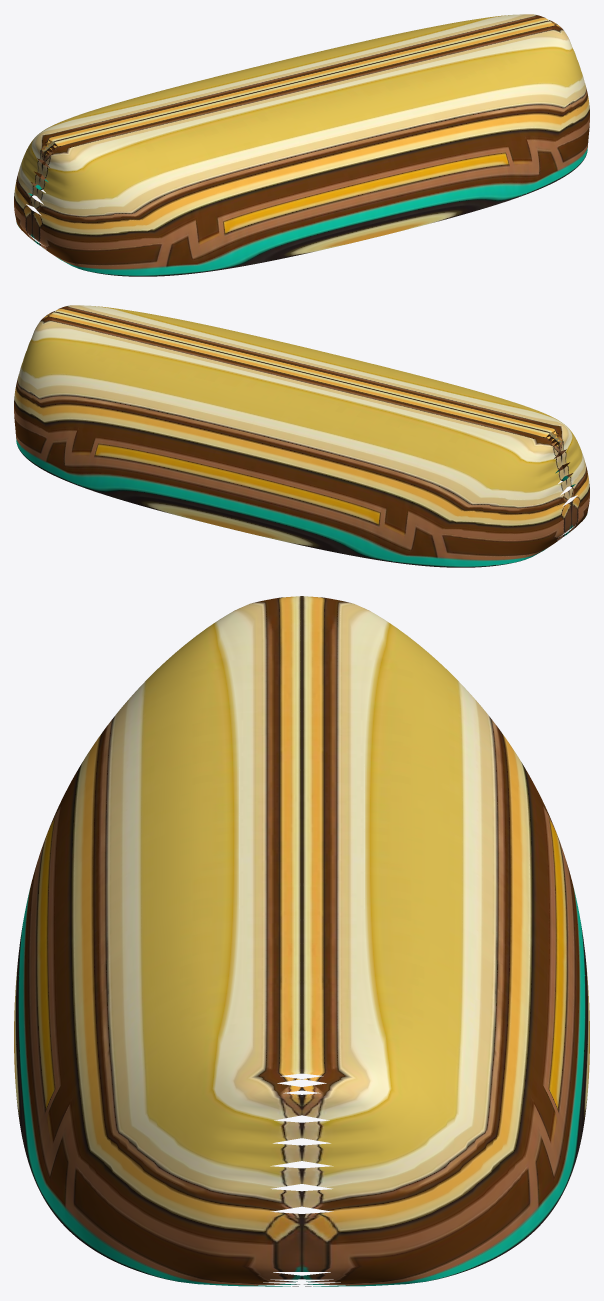
Rendered from entry_bridge.glb.
The picture shows the model from 3 angles, top to bottom: view 1: azimuth 30°, elevation 25°; view 2: azimuth 150°, elevation 25°; view 3: azimuth 270°, elevation 25°; orthographic projection. The views are drawn at different scales.
Parts seen in each view (by area): view 1: entry_bridge; view 2: entry_bridge; view 3: entry_bridge.
Part boxes in pixels (box(x1,y1,x2,y2)): entry_bridge: box(14, 14, 589, 276); entry_bridge: box(14, 305, 589, 567); entry_bridge: box(14, 596, 589, 1286).
Size of the model in its own units: 0.989 by 0.1807 by 0.4641.
Materials: 1 (1 with a texture image).
